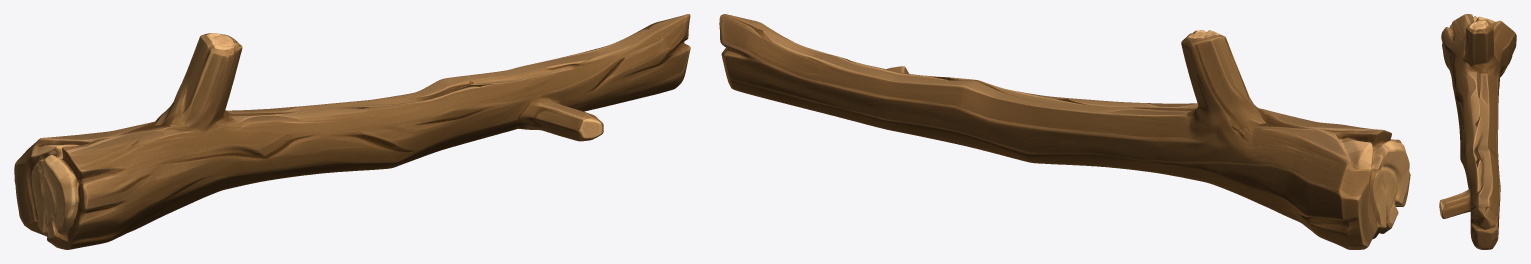
The model's file is Meshy_AI_Low_Poly_Branch_0730175107_texture.fbx.
3 renders of one model, left to right at view 1: azimuth 30°, elevation 25°; view 2: azimuth 150°, elevation 25°; view 3: azimuth 270°, elevation 25°, orthographic. The views are drawn at different scales.
Visible parts, largest first — view 1: mesh_node; view 2: mesh_node; view 3: mesh_node.
Boxes of the visible parts, x1,y1,x2,y2 form: mesh_node: [14, 14, 690, 249]; mesh_node: [719, 14, 1410, 249]; mesh_node: [1439, 14, 1516, 249].
Size of the model in its own units: 190 by 45.5 by 32.89.
Materials: 1 (1 with a texture image).
